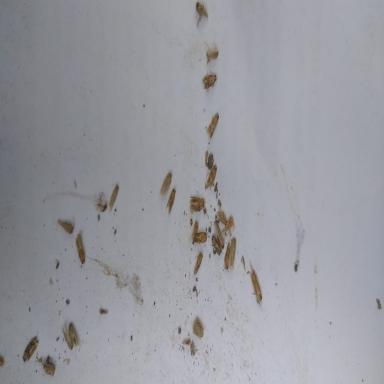pbw: (57, 214, 75, 240), (22, 337, 38, 362), (206, 112, 219, 140), (201, 70, 218, 90), (195, 2, 208, 28), (75, 232, 85, 264), (205, 164, 217, 189), (214, 220, 224, 249), (190, 195, 208, 211), (160, 172, 172, 194), (62, 326, 73, 349), (166, 187, 175, 214), (193, 252, 203, 276), (68, 322, 78, 346), (109, 184, 118, 210), (229, 238, 236, 270), (212, 234, 222, 255), (223, 241, 230, 270), (40, 362, 55, 375), (192, 231, 207, 243), (206, 48, 218, 62), (217, 211, 227, 224), (225, 217, 233, 232)
